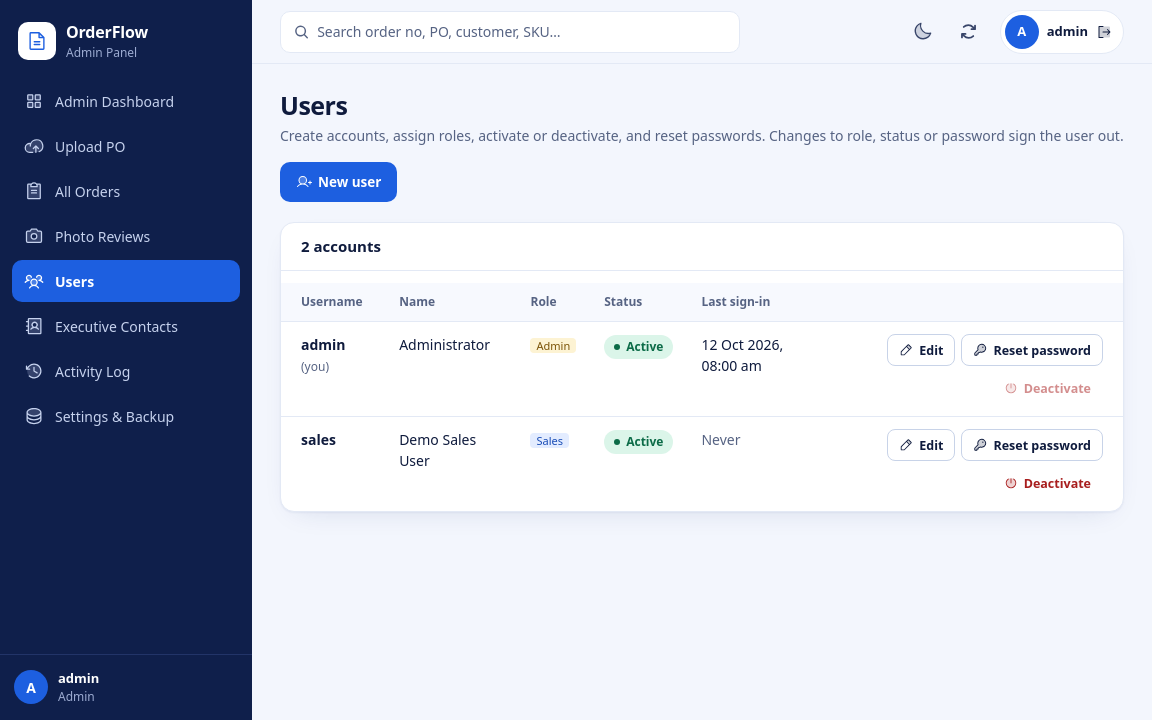
User management › does not offer a role change for your own account
Click the button with aria-label "Edit admin" at x=921, y=350, box [887,334,956,366]
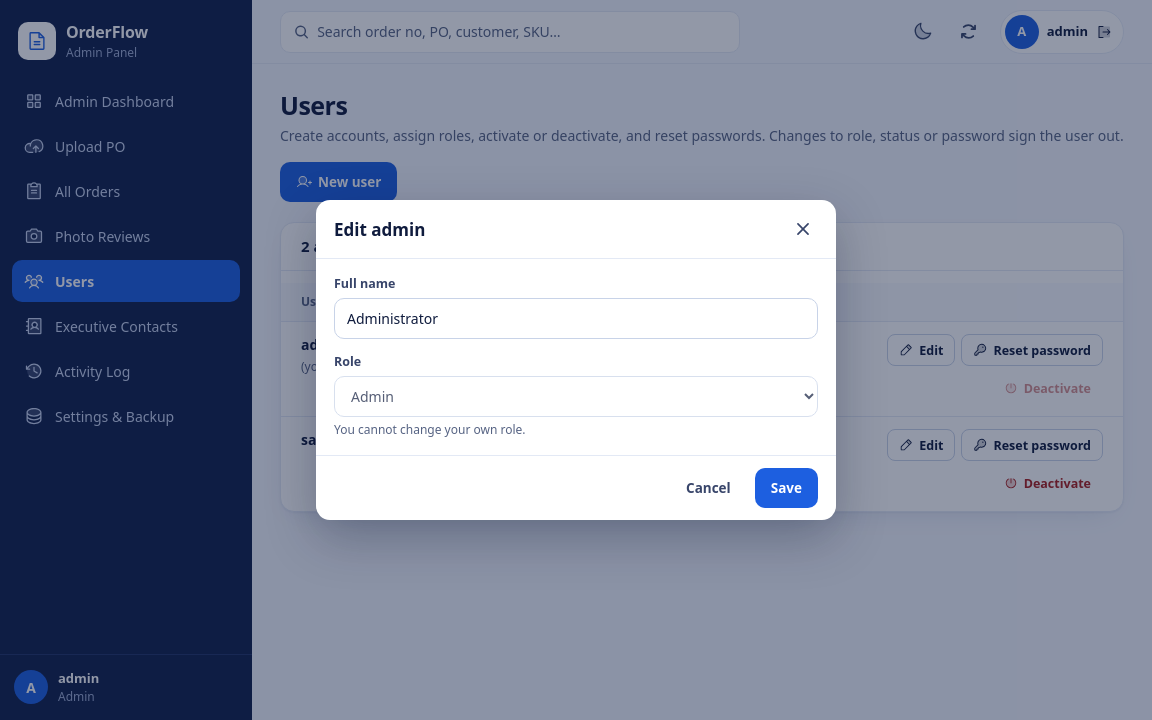
Expected: the dropdown labelled "Role" is disabled, [334,376,818,417]
